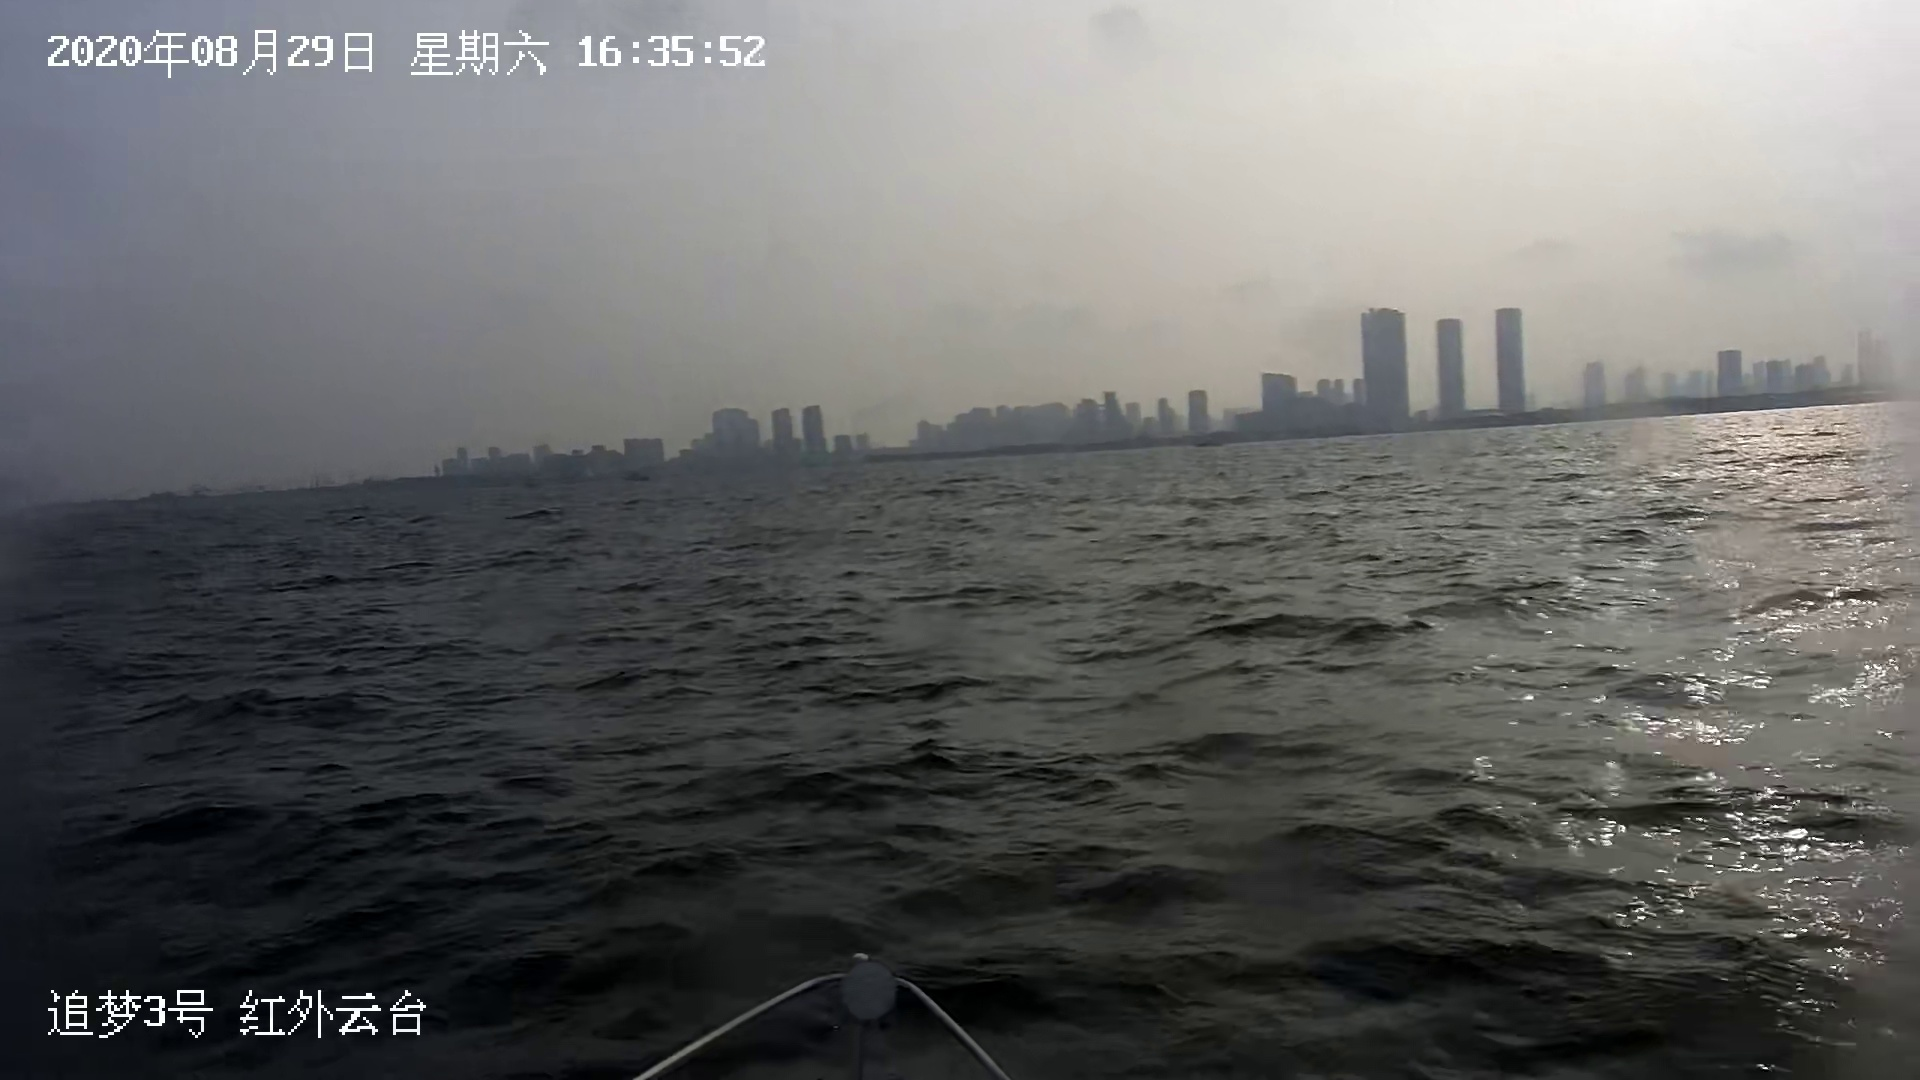coast: (57, 298, 1919, 505)
